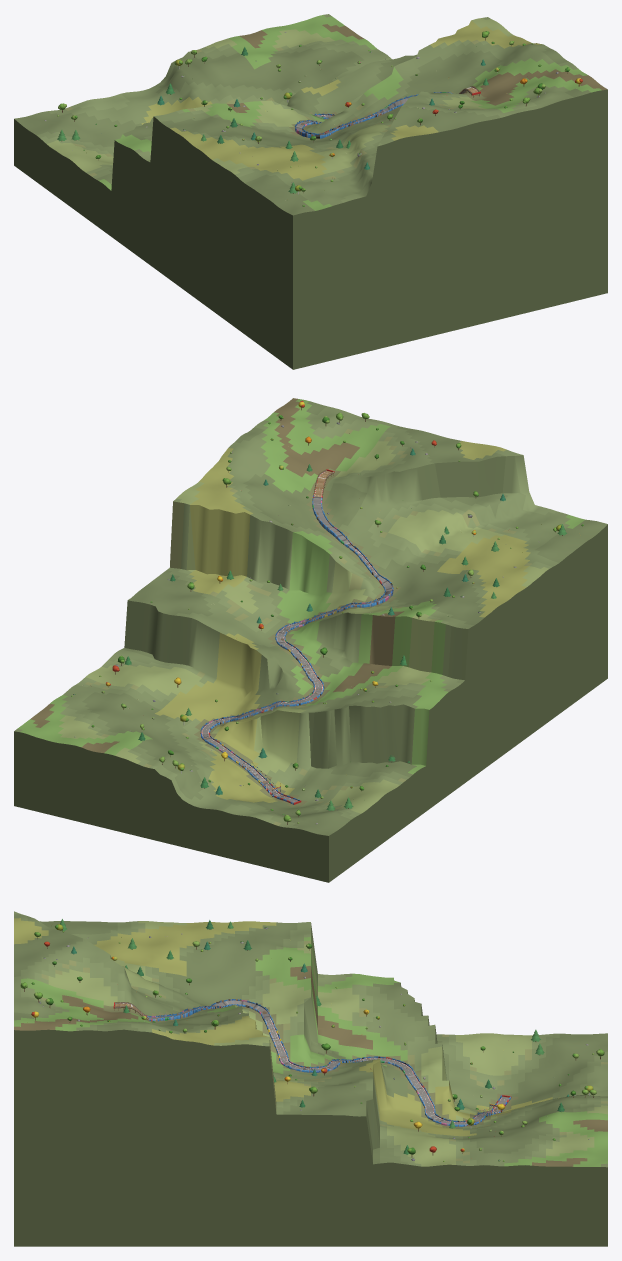
3 views of the same model, one above another, from view 1: azimuth 30°, elevation 25°; view 2: azimuth 150°, elevation 25°; view 3: azimuth 270°, elevation 25° (orthographic). The views are drawn at different scales.
Parts seen in each view (by area): view 1: grass, leafy trees, hay, pines; view 2: grass, hay, road, pines, leafy trees; view 3: grass, hay, road, leafy trees, pines.
Part boxes in pixels (left/top/right/bottom): grass: left=14, top=14, right=607, bottom=369; leafy trees: left=58, top=31, right=570, bottom=191; hay: left=295, top=86, right=480, bottom=138; pines: left=57, top=47, right=488, bottom=193; grass: left=14, top=398, right=607, bottom=882; hay: left=200, top=469, right=393, bottom=804; road: left=202, top=471, right=392, bottom=802; pines: left=125, top=448, right=566, bottom=810; leafy trees: left=117, top=412, right=561, bottom=822; grass: left=14, top=911, right=607, bottom=1246; hay: left=113, top=999, right=511, bottom=1126; road: left=115, top=1000, right=508, bottom=1124; leafy trees: left=20, top=924, right=604, bottom=1154; pines: left=60, top=919, right=572, bottom=1154.
Bounding box in the file's own units: 280 × 180 × 430.
